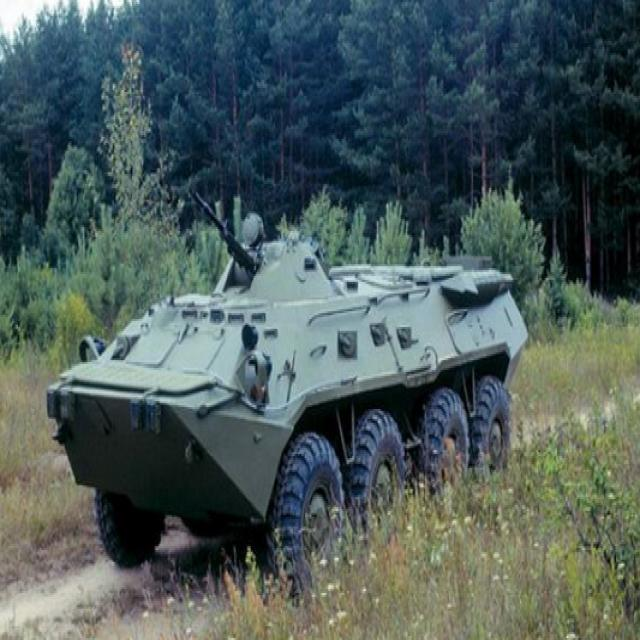MIL_APC: (33, 216, 538, 562)
